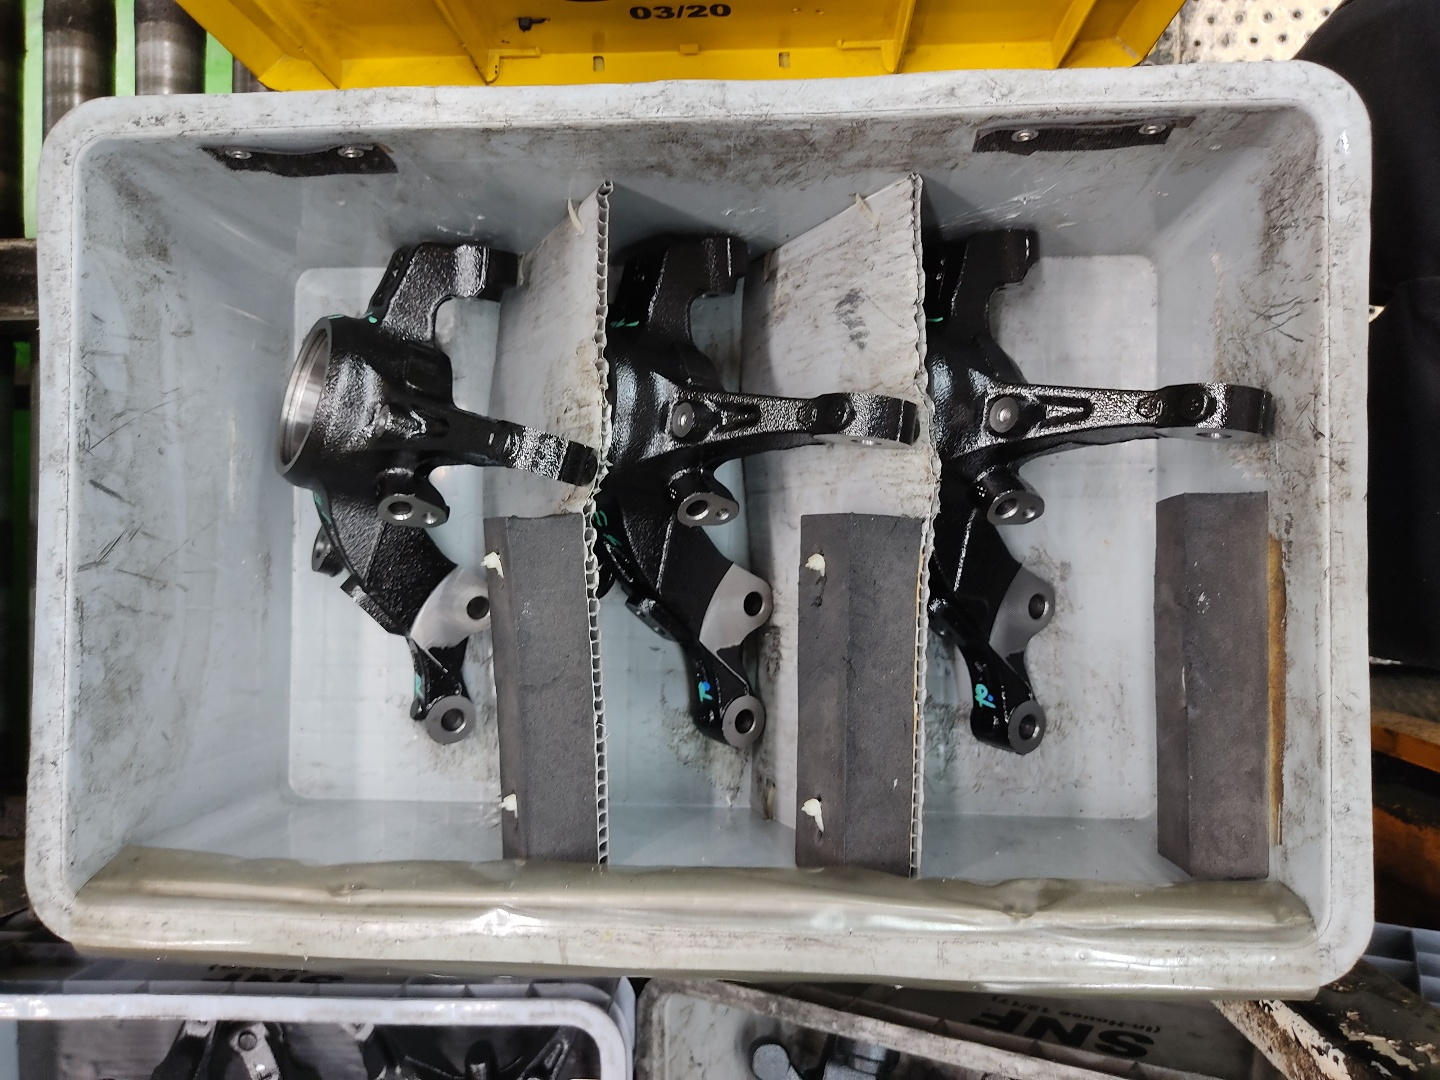abs-rh: (922, 214, 1285, 761), (594, 220, 926, 757), (269, 233, 600, 756)
